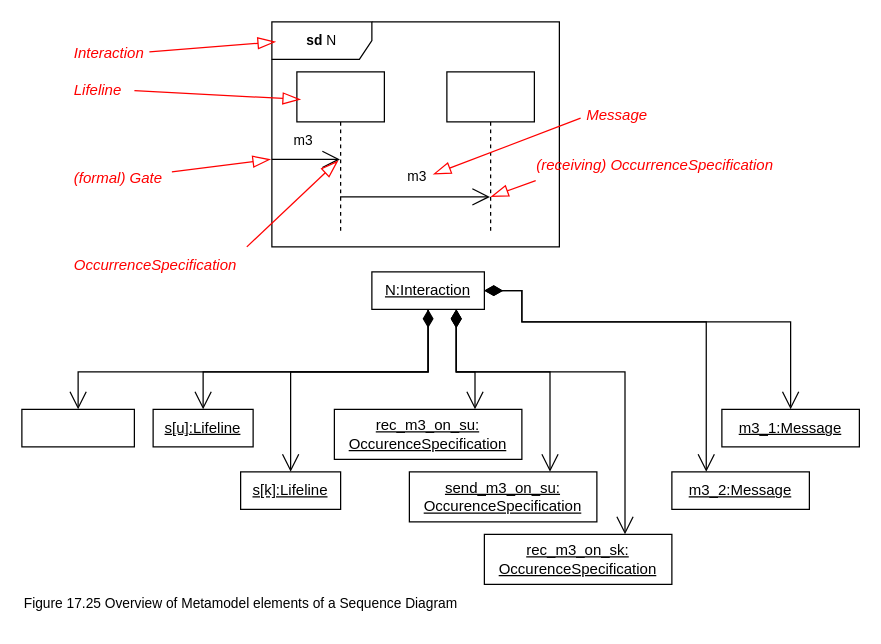
The diagram is 881 pixels wide and 644 high, and some of its shapes have lost their labels. Here are the shapes that lost their labels. From the top down, the box of each, then its label:
(296, 71, 384, 234): s[u]: B
(446, 71, 534, 234): s[k]: B
(21, 408, 134, 447): in_m3:Gate
